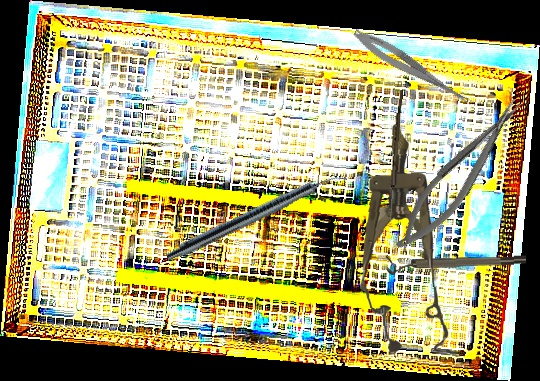Fixation Ring: (386, 253, 527, 275)
Handpiece: (163, 164, 349, 268)
Micro Scissor: (349, 24, 479, 111)
Needle Holder: (383, 91, 537, 261)
Speculum: (351, 121, 455, 359)
Surgical Spoon: (387, 89, 404, 223)
